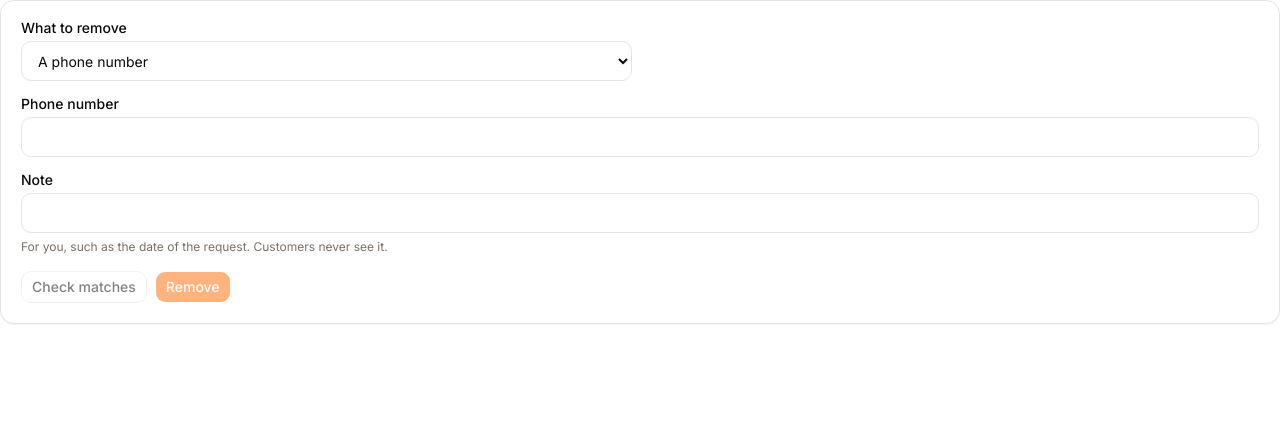
Test: RemovalForm › says so when nothing stored matches, and still lets the value be listed
In the field labelled "Phone number": coordinates (640, 137) [21, 117, 1259, 157], type "(480) 555-0142"
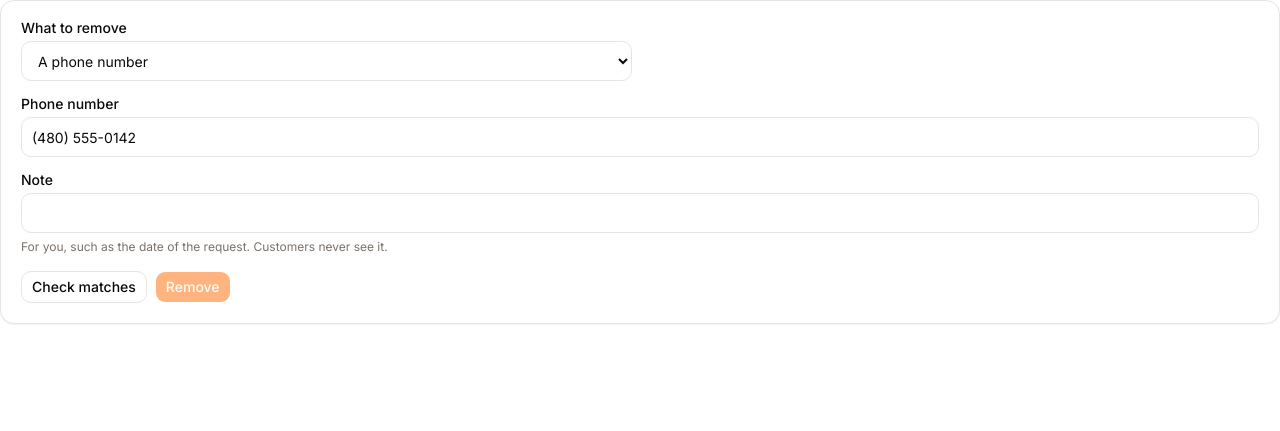
Click the button "Check matches": coordinates (84, 287) [21, 271, 147, 303]
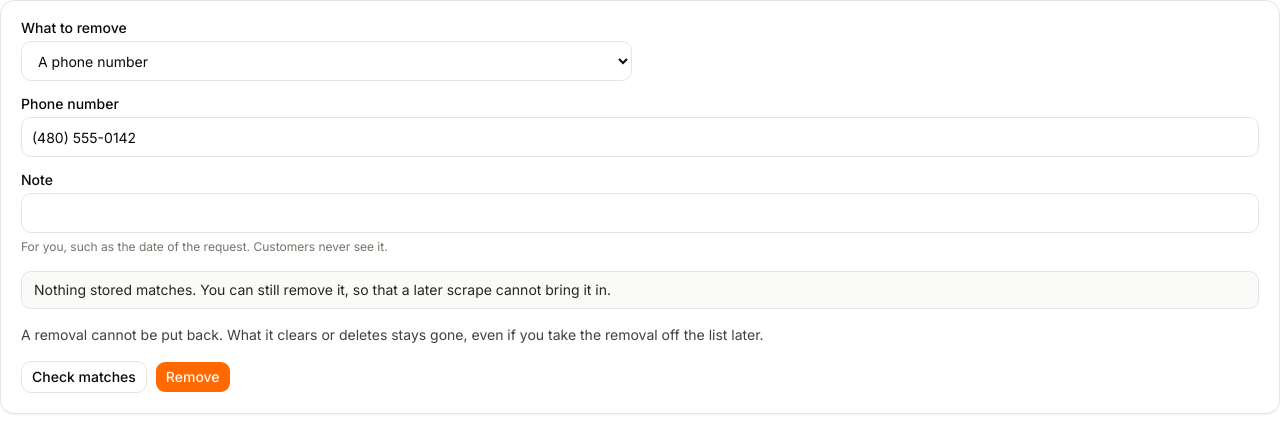
Expected: the text "Nothing stored matches" is shown, [34, 281, 611, 298]
Expected: the button "Remove" is enabled, [155, 361, 230, 393]
